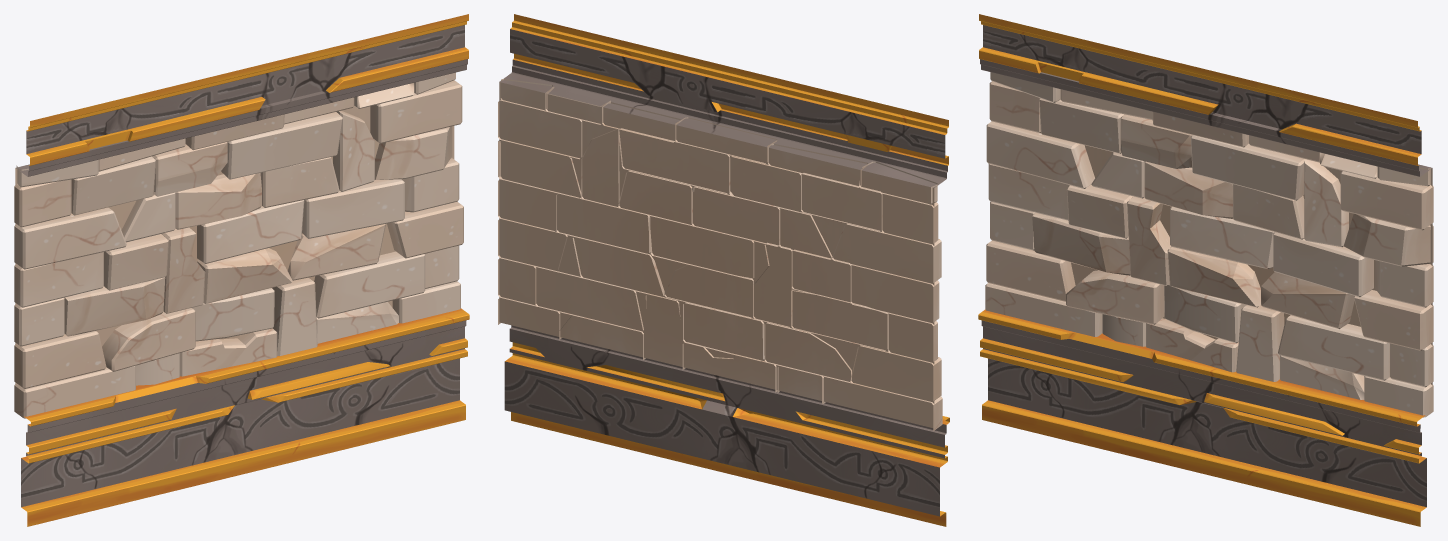
File: WallDamagedV1.fbx
The picture shows the model from 3 angles, left to right: view 1: azimuth 30°, elevation 25°; view 2: azimuth 150°, elevation 25°; view 3: azimuth 330°, elevation 25°; orthographic projection.
Visible parts, largest first — view 1: WallDamagedV1; view 2: WallDamagedV1; view 3: WallDamagedV1.
Part boxes in pixels (<box>): WallDamagedV1: <box>14,14,469,526</box>; WallDamagedV1: <box>498,14,949,526</box>; WallDamagedV1: <box>978,14,1433,526</box>.
Size of the model in its own units: 9 by 8 by 0.5903.
